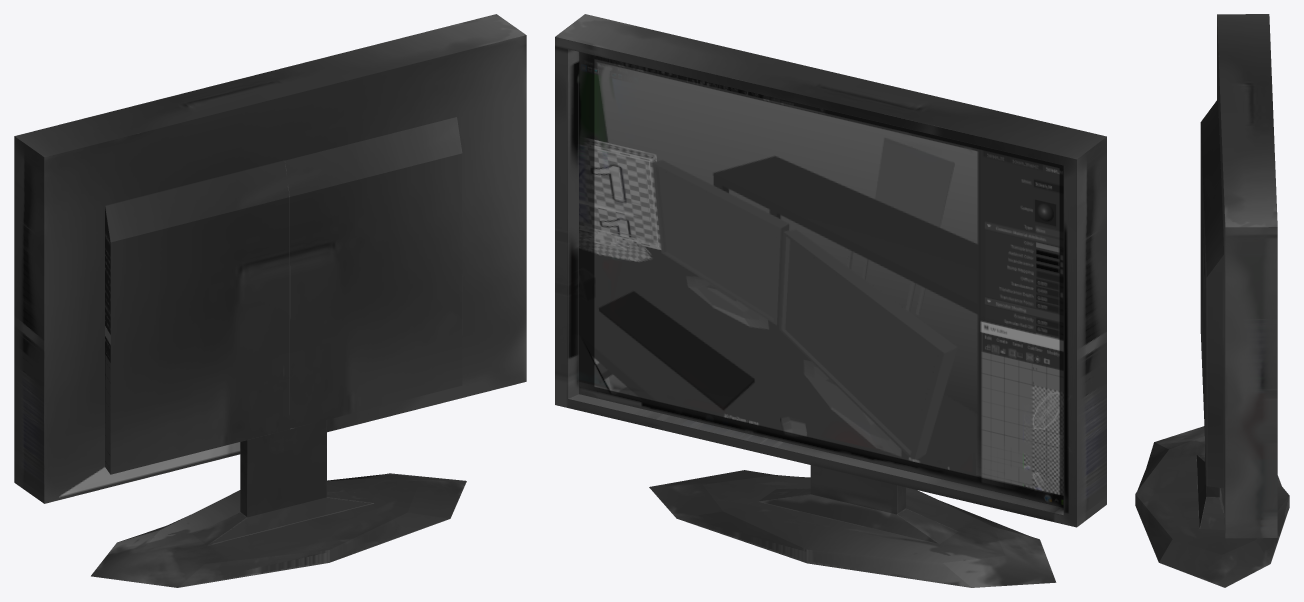
The model's file is Screen.fbx.
3 views of the same model, side by side, from view 1: azimuth 30°, elevation 25°; view 2: azimuth 150°, elevation 25°; view 3: azimuth 270°, elevation 25° (orthographic). The views are drawn at different scales.
Parts seen in each view (by area): view 1: Screen_01; view 2: Screen_01; view 3: Screen_01.
Boxes of the visible parts, x1,y1,x2,y2 form: Screen_01: (14, 14, 526, 587); Screen_01: (555, 14, 1106, 587); Screen_01: (1135, 14, 1289, 587).
Size of the model in its own units: 59.52 by 50.4 by 18.2.
